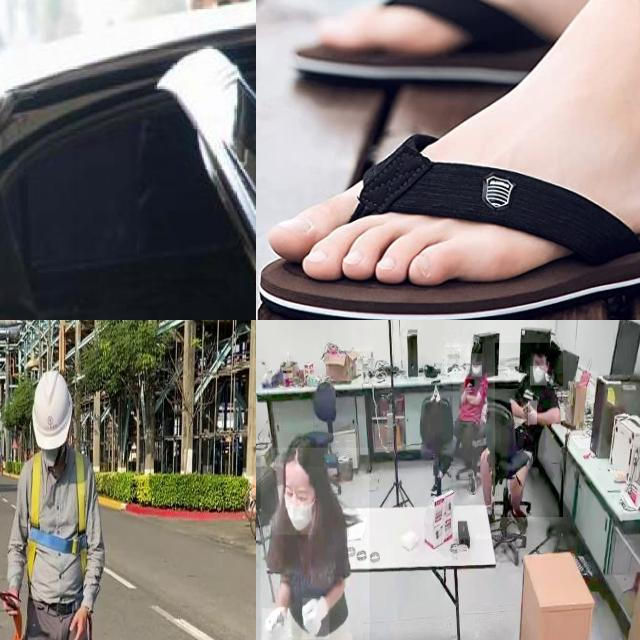Harness: (27, 452, 89, 582)
Sandals: (264, 101, 640, 316)
face_mask: (276, 488, 316, 534), (530, 366, 547, 385), (472, 365, 482, 377)
hand_glove: (302, 598, 330, 639), (262, 608, 291, 640)
hand_noglove: (528, 400, 538, 426), (520, 399, 530, 421), (465, 379, 475, 392)
head_nohelmet: (283, 433, 324, 467), (532, 342, 548, 354), (471, 342, 483, 354)
person: (260, 447, 369, 640), (495, 343, 563, 518), (453, 344, 484, 490)
